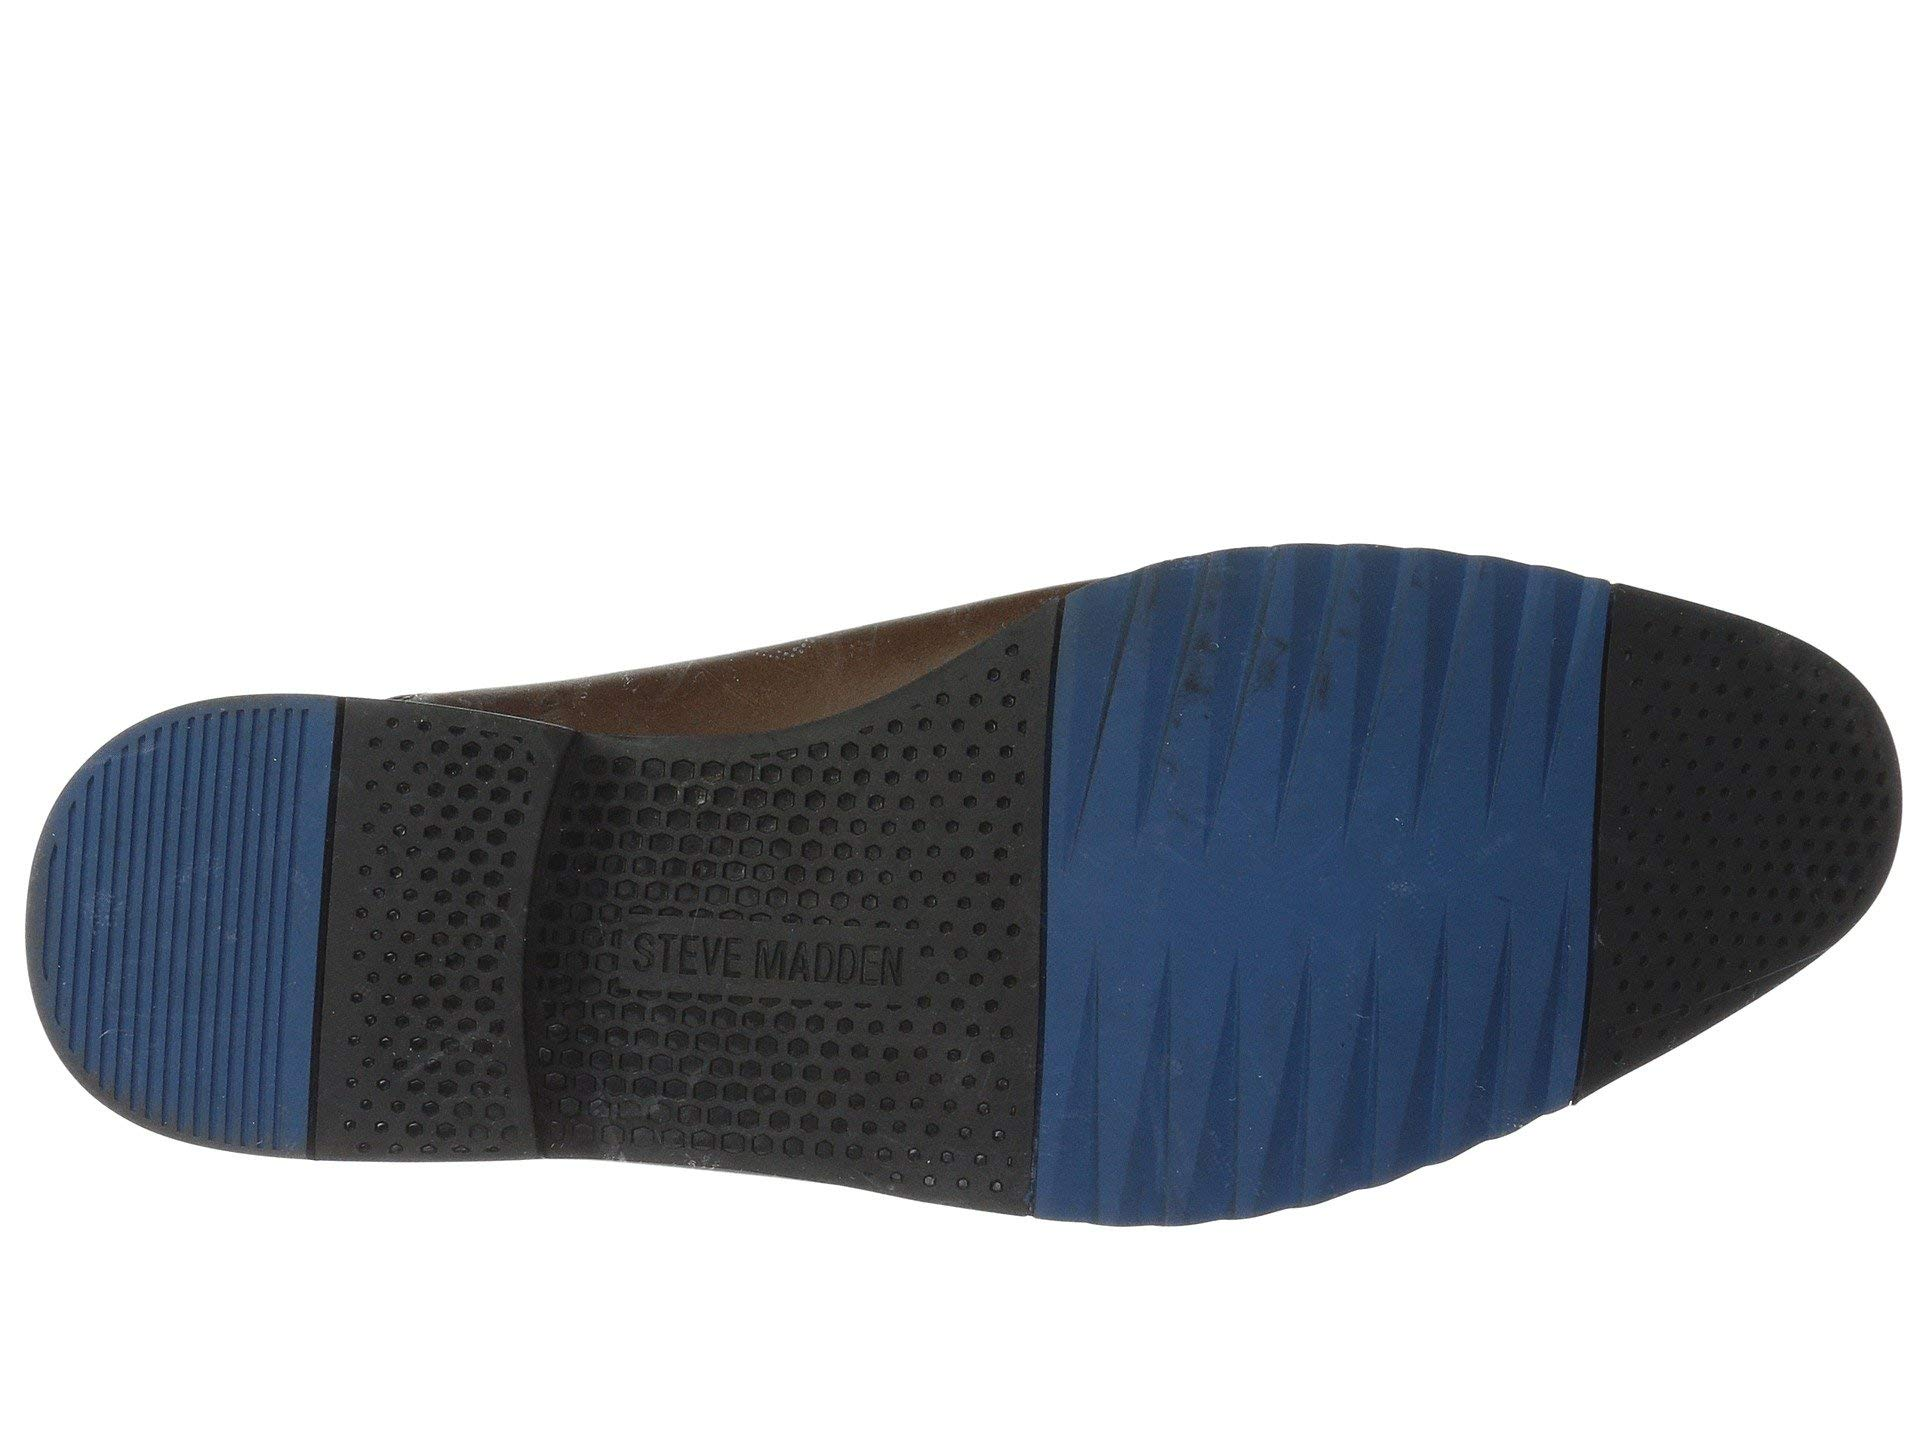line: (60, 820, 255, 1013)
polygon: (581, 846, 927, 1136), (414, 731, 538, 862), (794, 725, 912, 839), (1693, 879, 1798, 989)
quad: (581, 846, 927, 1136)
text: (581, 846, 927, 1136)
triangle: (1117, 532, 1460, 886), (1113, 914, 1427, 1257), (1385, 874, 1599, 1190)
